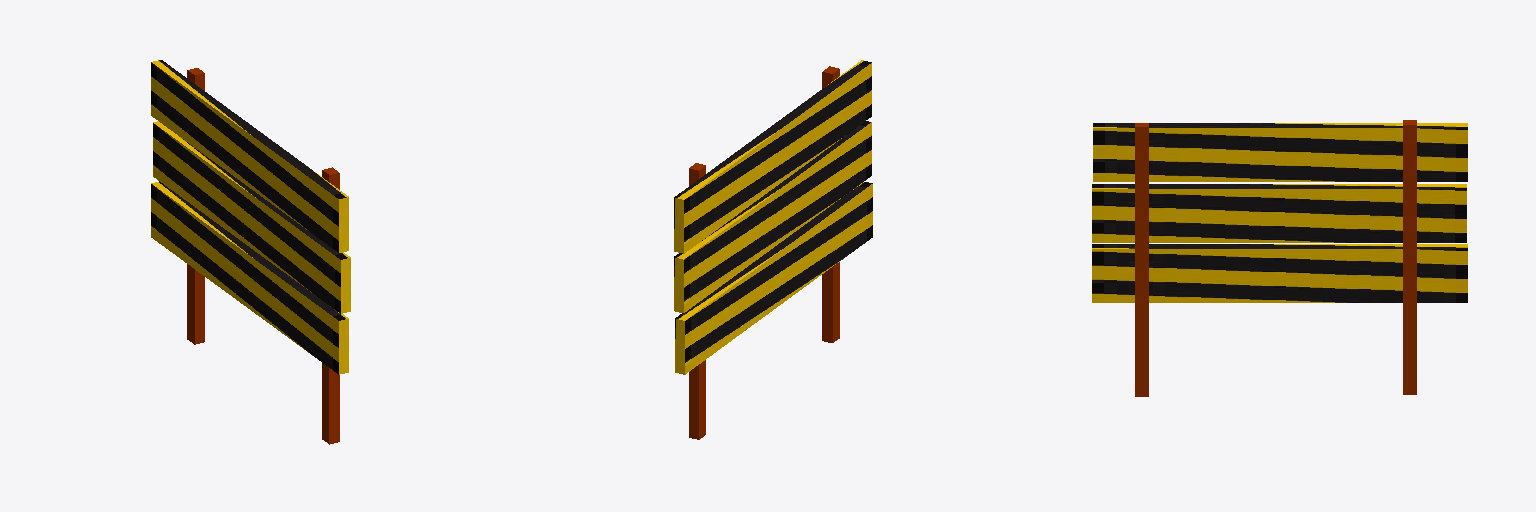
The picture shows the model from 3 angles: view 1: azimuth 30°, elevation 25°; view 2: azimuth 150°, elevation 25°; view 3: azimuth 270°, elevation 25°; orthographic projection.
Visible parts, largest first — view 1: Cube.002_Cube.005, Cube.001_Cube.004, Cube_Cube.003, Cube.003_Cube.006, Cube.004_Cube.007; view 2: Cube.002_Cube.005, Cube.001_Cube.004, Cube_Cube.003, Cube.004_Cube.007, Cube.003_Cube.006; view 3: Cube.001_Cube.004, Cube_Cube.003, Cube.002_Cube.005, Cube.003_Cube.006, Cube.004_Cube.007.
Part boxes in pixels (x1,y1,x2,y2): Cube.002_Cube.005: (151, 60, 348, 252); Cube.001_Cube.004: (151, 181, 348, 374); Cube_Cube.003: (153, 121, 350, 313); Cube.003_Cube.006: (187, 68, 204, 344); Cube.004_Cube.007: (322, 167, 339, 444); Cube.002_Cube.005: (674, 60, 871, 253); Cube.001_Cube.004: (675, 182, 872, 374); Cube_Cube.003: (674, 121, 871, 312); Cube.004_Cube.007: (822, 66, 839, 342); Cube.003_Cube.006: (689, 163, 705, 439); Cube.001_Cube.004: (1092, 244, 1467, 302); Cube_Cube.003: (1092, 184, 1466, 242); Cube.002_Cube.005: (1093, 123, 1467, 181); Cube.003_Cube.006: (1403, 120, 1416, 394); Cube.004_Cube.007: (1135, 123, 1148, 396).
Bounding box in the file's own units: 0.1341 × 1.59 × 2.01.
2 materials, 1 textured.